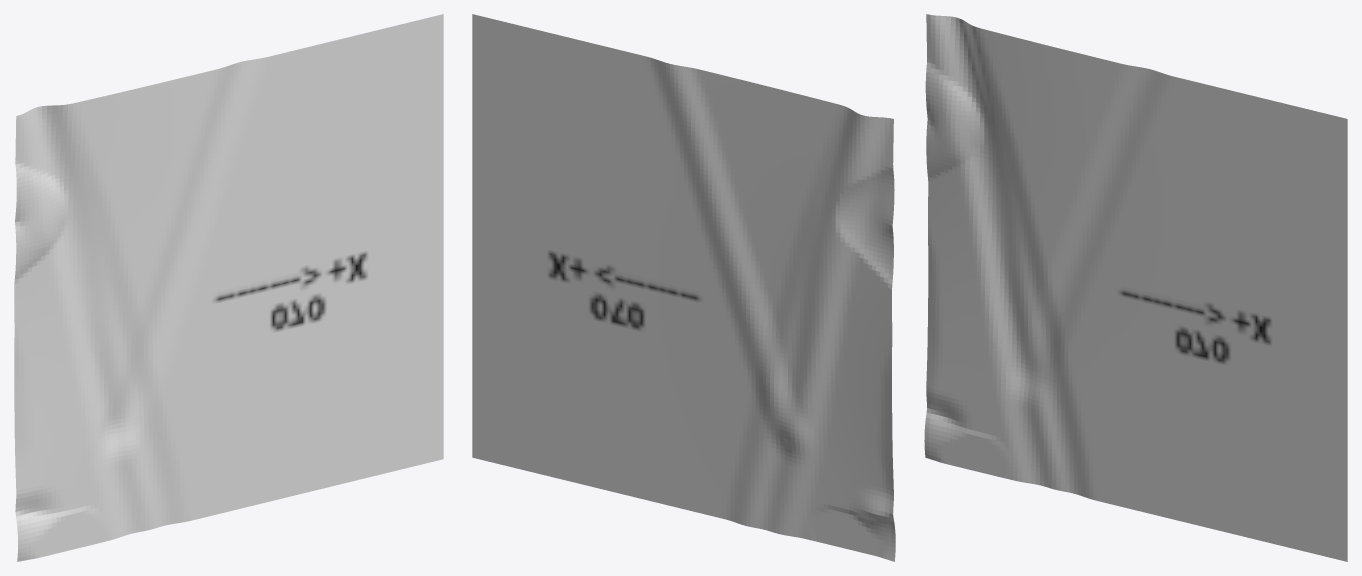
3 views of the same model, side by side, from view 1: azimuth 30°, elevation 25°; view 2: azimuth 150°, elevation 25°; view 3: azimuth 330°, elevation 25° (orthographic).
Parts seen in each view (by area): view 1: Ground070; view 2: Ground070; view 3: Ground070.
Part boxes in pixels (left/top/right/bottom): Ground070: left=14, top=14, right=443, bottom=561; Ground070: left=472, top=14, right=895, bottom=561; Ground070: left=924, top=14, right=1347, bottom=561.
Size of what is drawn, in the model's own units: 100 by 2.53 by 100.
1 material, 1 textured.
